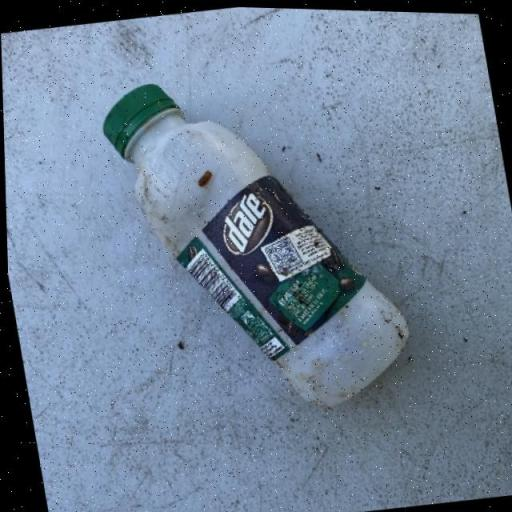plastic: (93, 50, 420, 434)
